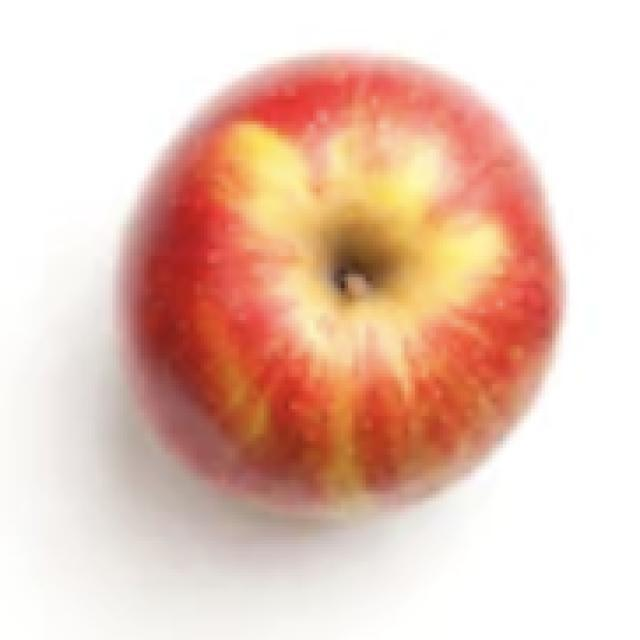Apple: (117, 50, 562, 522)
